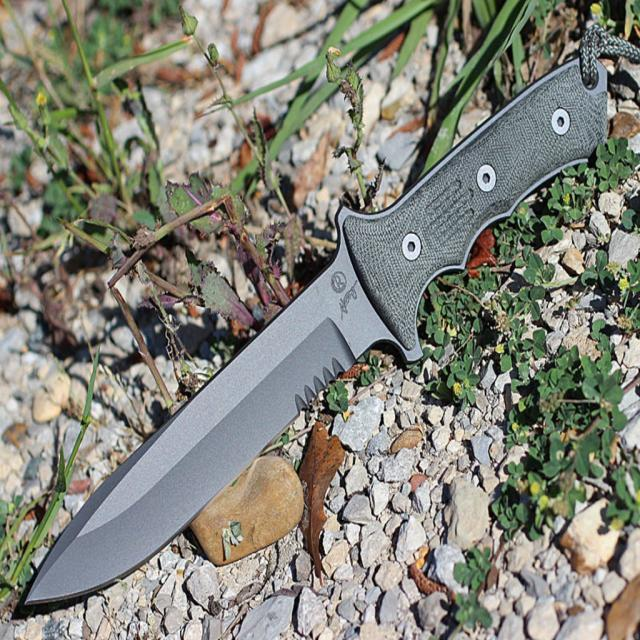Knife: (28, 26, 640, 604)
